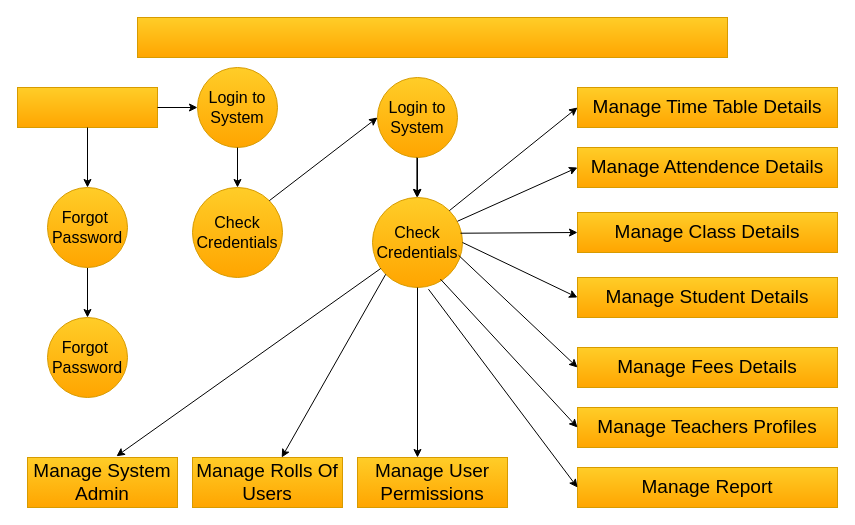
Image size: 855x525. Some labels were removed from this diagram. Here are the shapes that lost their labels. From the top down, the centre of each, then its label:
At point 432,37: "Student Information System".
At point 87,107: "Admin".
